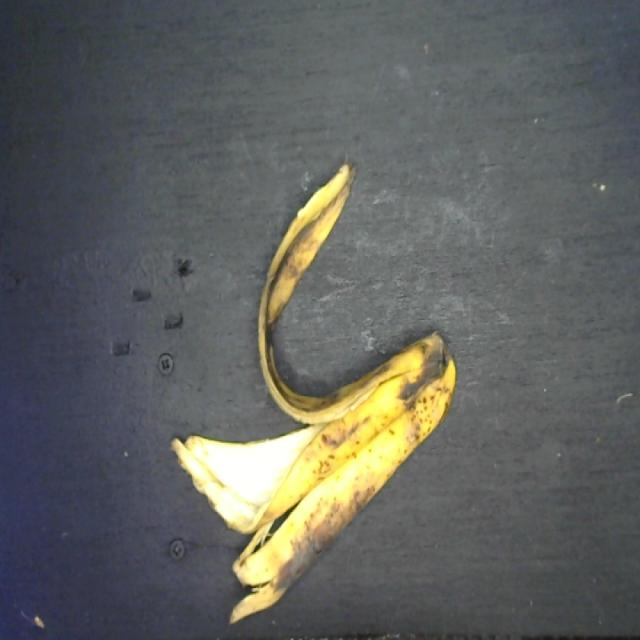biodegradable: (169, 150, 457, 626)
